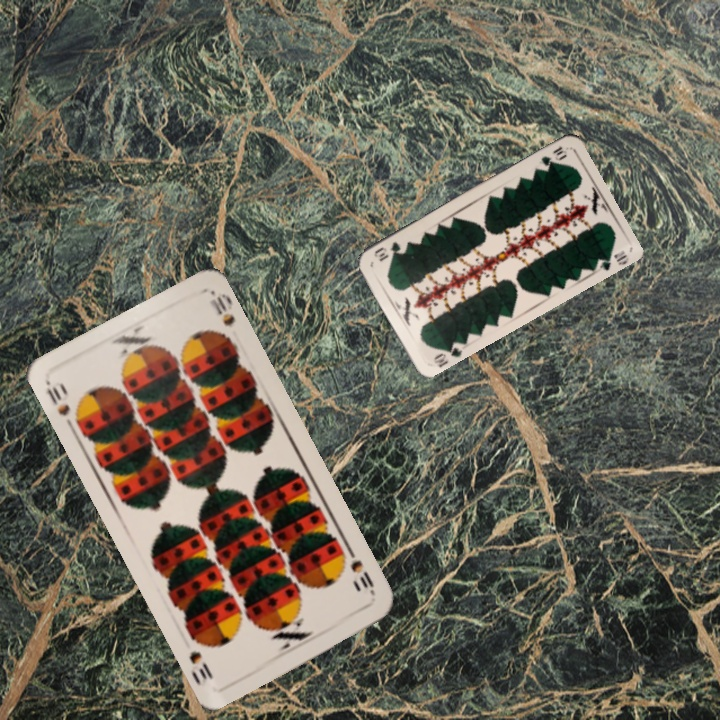G10: (429, 338, 465, 369), (537, 142, 570, 169)
S10: (41, 377, 84, 432), (346, 555, 378, 598)
